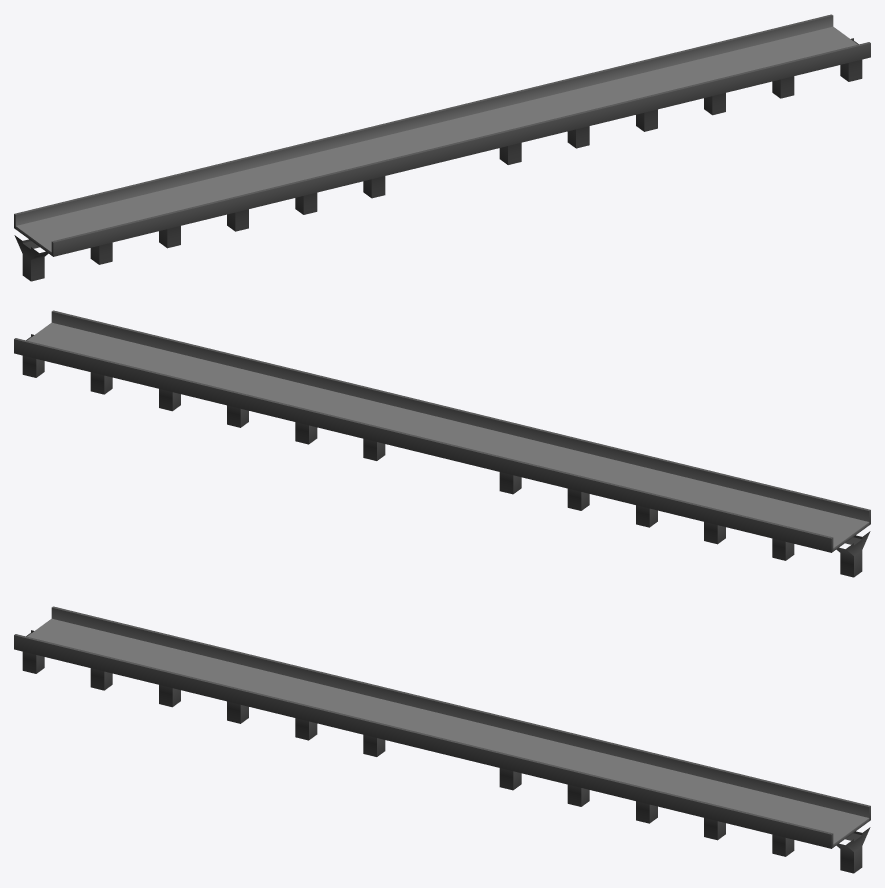
The model's file is KOUKA_CAR.glb.
3 renders of one model, top to bottom at view 1: azimuth 30°, elevation 25°; view 2: azimuth 150°, elevation 25°; view 3: azimuth 330°, elevation 25°, orthographic.
Parts seen in each view (by area): view 1: obj3; view 2: obj3; view 3: obj3.
Part boxes in pixels (x1,y1,x2,y2): obj3: (14,14,870,281); obj3: (14,310,870,577); obj3: (14,606,870,873).
Bounding box in the file's own units: 610 × 34.06 × 50.
1 material, 1 textured.
